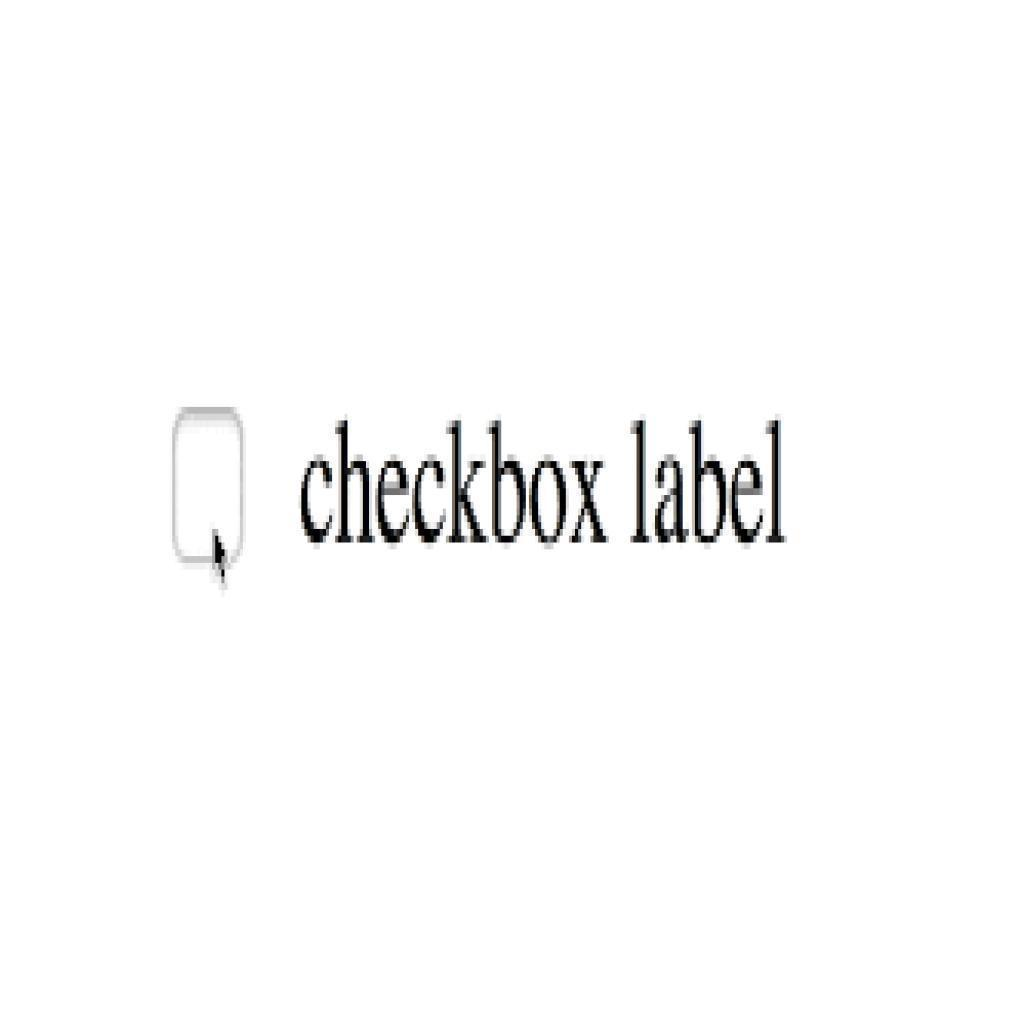checkbox: (171, 406, 244, 564)
label: (294, 410, 791, 549)
